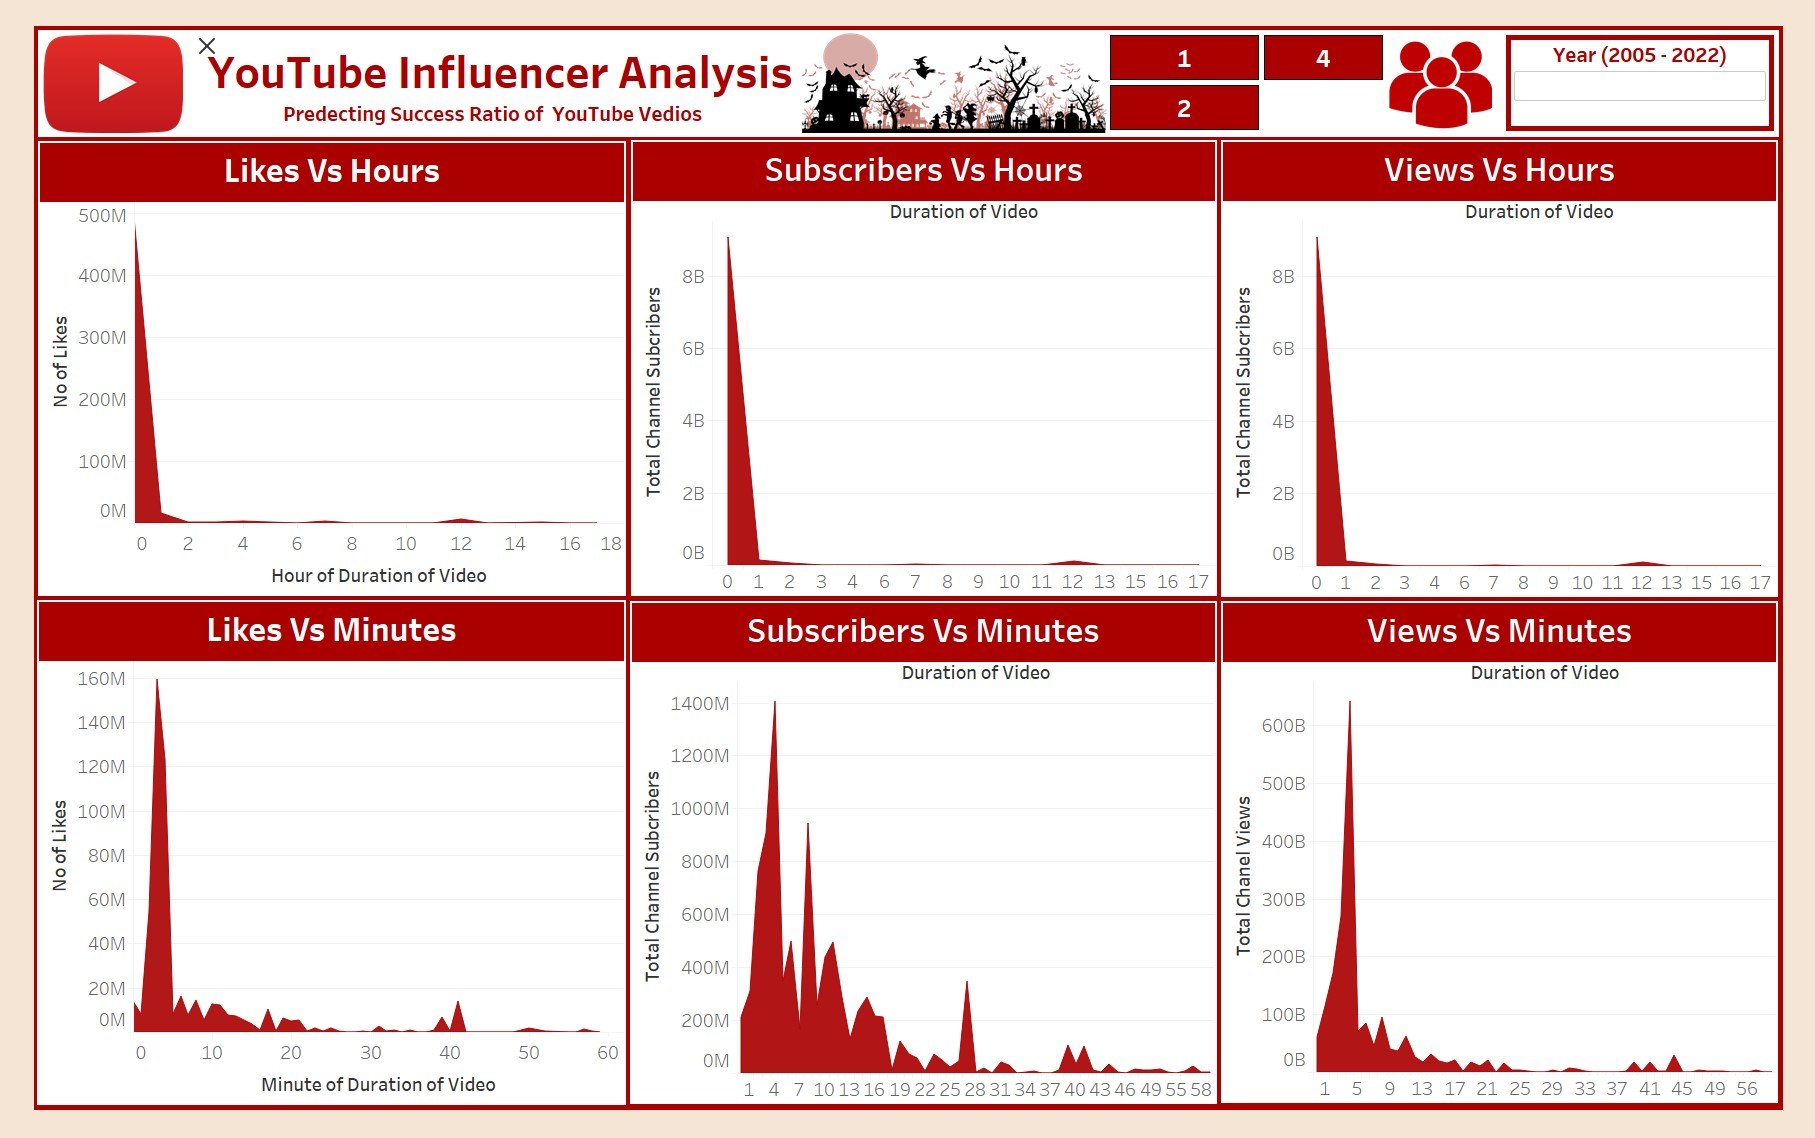

This screenshot's page, from the dashboard's own definition file:
{"tool":"tableau","page":{"name":"Dashboard 3","canvas":[1765,1100],"ordinal":3},"visuals":[{"type":"title","box":[8,8,1749,115]},{"type":"image","param":"Image/adobestock_90516557.png","box":[775,15,410,100]},{"type":"image","param":"Image/multiple-users-silhouette.png","box":[1363,15,154,103]},{"type":"image","param":"Image/580b57fcd9996e24bc43c545.png","box":[17,16,152,99]},{"type":"dashboard-object","box":[169,16,24,24]},{"type":"dashboard-object","box":[1084,17,149,45]},{"type":"dashboard-object","box":[1238,17,119,45]},{"type":"filter","title":"Likes Vs Hours","param":"[federated.0cmghbw1i3nk9q184302f0gca3j3].[none:Date of Video Upload:nk]","box":[1480,17,268,96]},{"type":"dashboard-object","box":[1084,67,149,45]},{"type":"worksheet","title":"Subscribers Vs Hours","mark":"Area","rows":["Total Channel Subcribers"],"cols":["Duration of Video"],"box":[605,122,586,456]},{"type":"worksheet","title":"Views Vs Hours","mark":"Area","rows":["Total Channel Subcribers"],"cols":["Duration of Video"],"box":[1195,122,557,457]},{"type":"worksheet","title":"Likes Vs Hours","mark":"Area","rows":["No of Likes"],"cols":["Duration of Video"],"box":[12,123,588,455]},{"type":"worksheet","title":"Likes Vs Minutes","mark":"Area","rows":["No of Likes"],"cols":["Duration of Video"],"box":[11,582,589,505]},{"type":"worksheet","title":"Subscribers Vs Minutes","mark":"Area","rows":["Total Channel Subcribers"],"cols":["Duration of Video"],"box":[604,583,587,503]},{"type":"worksheet","title":"Views Vs Minutes","mark":"Area","rows":["Total Chanel Views"],"cols":["Duration of Video"],"box":[1195,583,557,502]}]}

Visuals, with their boxes in screenshot pixels (x1, y1, x2, y2), scaled from the page's 1765x1100 canvas onto the 1815x1138 screenshot:
title: box=[8, 8, 1807, 127]
image: box=[797, 16, 1219, 119]
image: box=[1402, 16, 1560, 122]
image: box=[17, 17, 174, 119]
dashboard-object: box=[174, 17, 198, 41]
dashboard-object: box=[1115, 18, 1268, 64]
dashboard-object: box=[1273, 18, 1395, 64]
"Likes Vs Hours" filter: box=[1522, 18, 1798, 117]
dashboard-object: box=[1115, 69, 1268, 116]
"Subscribers Vs Hours" worksheet (Area marks): box=[622, 126, 1225, 598]
"Views Vs Hours" worksheet (Area marks): box=[1229, 126, 1802, 599]
"Likes Vs Hours" worksheet (Area marks): box=[12, 127, 617, 598]
"Likes Vs Minutes" worksheet (Area marks): box=[11, 602, 617, 1125]
"Subscribers Vs Minutes" worksheet (Area marks): box=[621, 603, 1225, 1124]
"Views Vs Minutes" worksheet (Area marks): box=[1229, 603, 1802, 1122]
